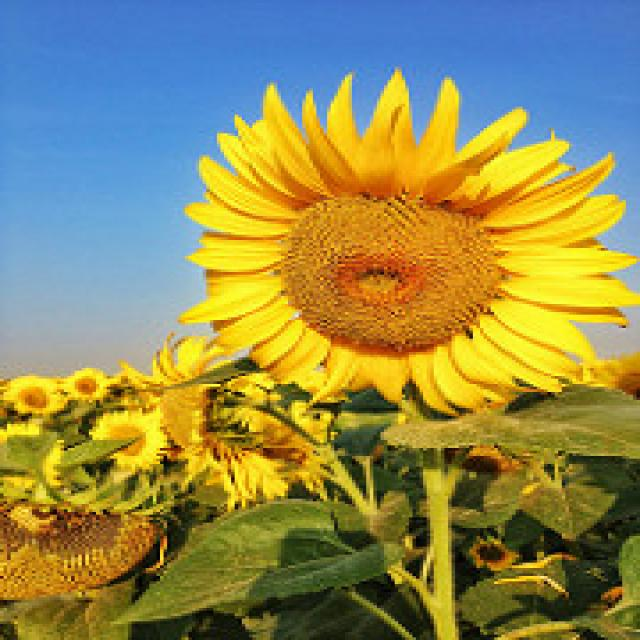sunflower: (174, 53, 640, 419), (81, 405, 170, 475), (0, 372, 82, 425), (460, 529, 524, 575), (61, 354, 110, 402)
